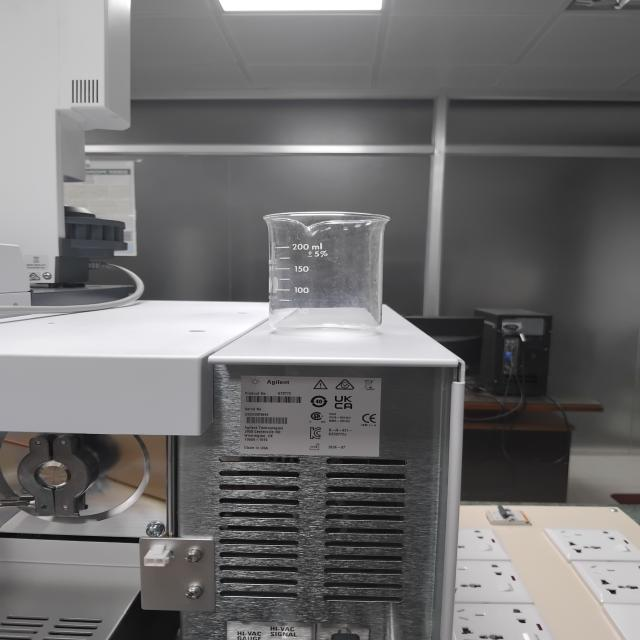Beaker: (209, 169, 450, 371)
